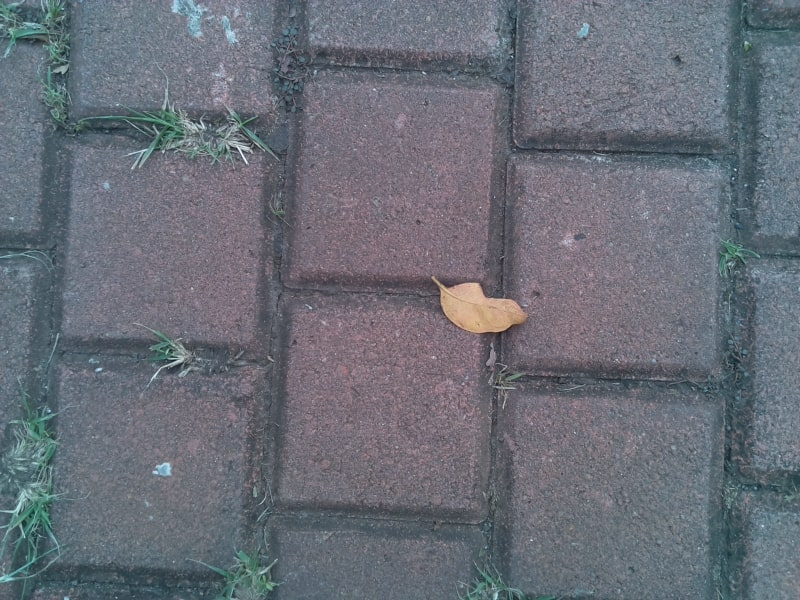Weed: (120, 92, 276, 169), (3, 474, 70, 578), (4, 406, 60, 480), (205, 546, 278, 600), (132, 325, 201, 379), (8, 1, 79, 53), (453, 557, 528, 600), (33, 77, 78, 130), (483, 361, 527, 407), (712, 235, 758, 277), (39, 30, 82, 68)
